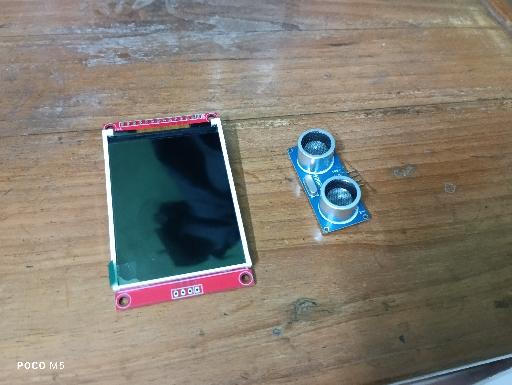Display: (102, 112, 256, 312)
sensor: (287, 128, 372, 236)
